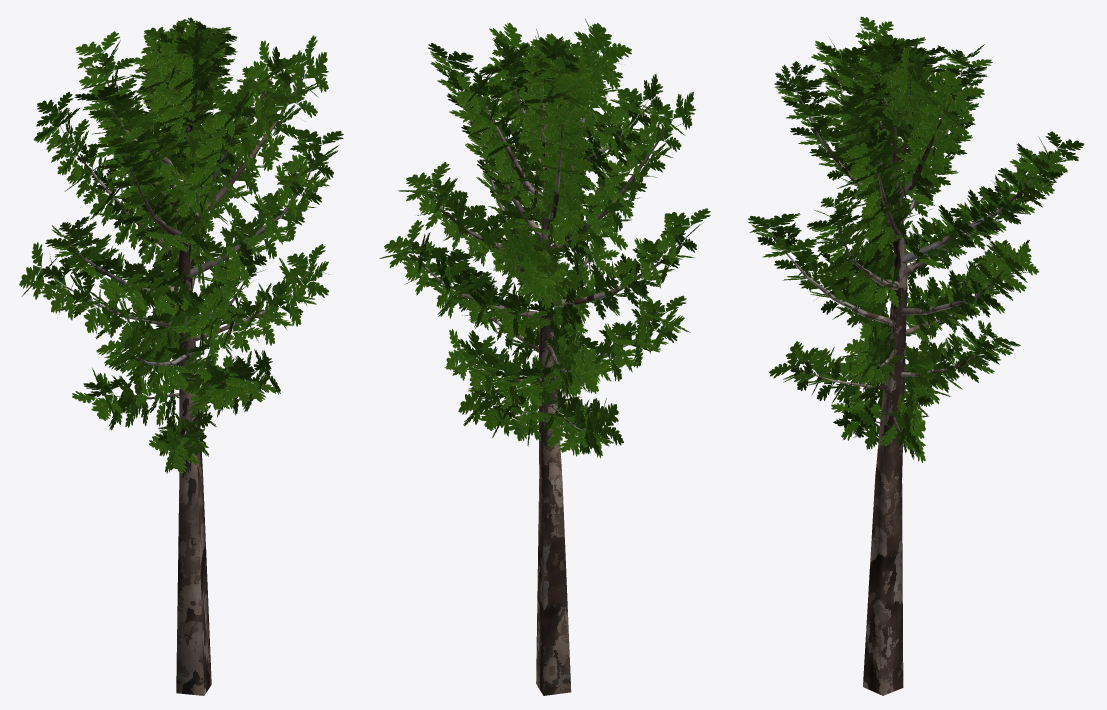
File: Tree_04.fbx
3 views of the same model, side by side, from view 1: azimuth 30°, elevation 25°; view 2: azimuth 150°, elevation 25°; view 3: azimuth 270°, elevation 25° (orthographic).
Visible parts, largest first — view 1: Tree_04; view 2: Tree_04; view 3: Tree_04.
Boxes of the visible parts, x1,y1,x2,y2 form: Tree_04: [19, 17, 343, 695]; Tree_04: [379, 19, 710, 695]; Tree_04: [748, 16, 1084, 695].
Size of the model in its own units: 0.0537 by 0.1196 by 0.0577.
